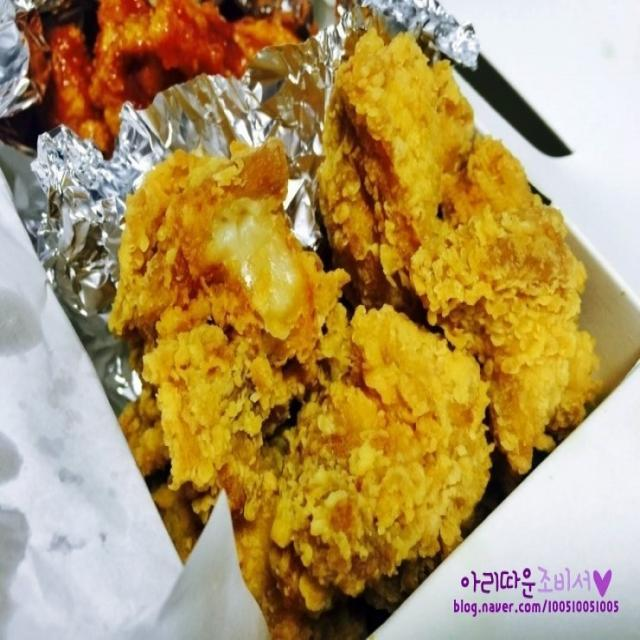Frango: (125, 71, 568, 559)
